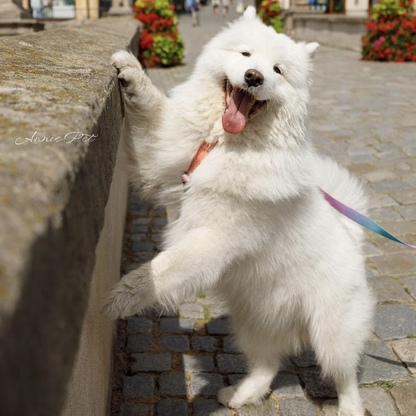samoyed: (97, 1, 385, 416)
